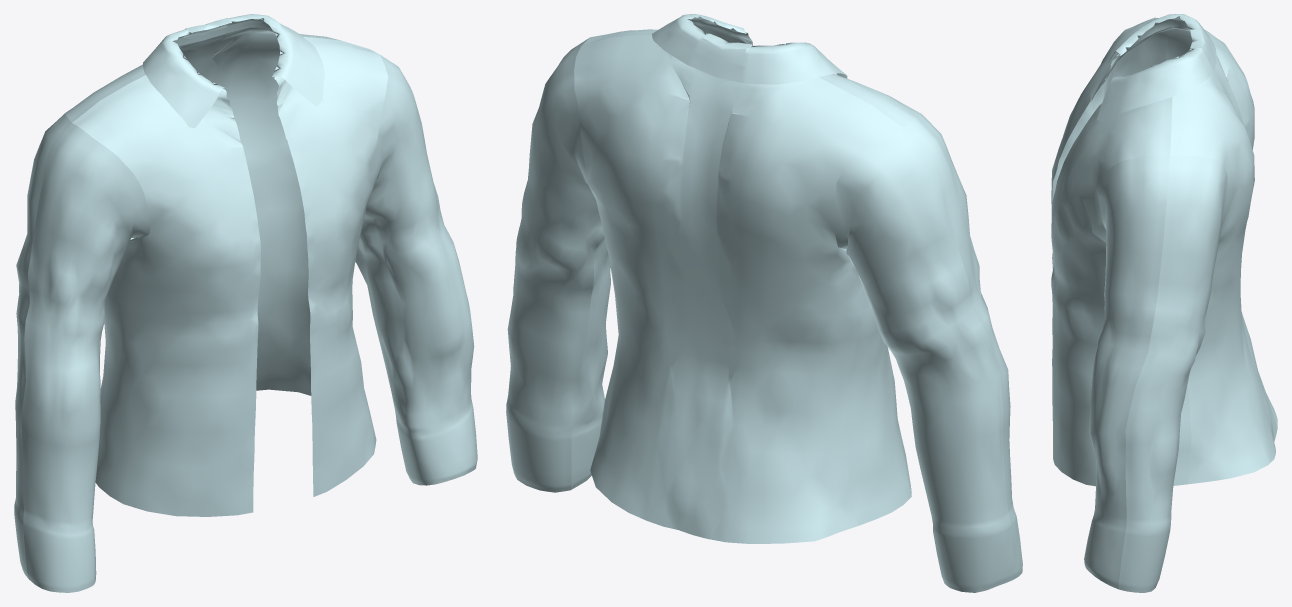
Rendered from clothing_overshirt.glb.
The picture shows the model from 3 angles, left to right: view 1: azimuth 30°, elevation 25°; view 2: azimuth 150°, elevation 25°; view 3: azimuth 270°, elevation 25°; orthographic projection. The views are drawn at different scales.
Parts seen in each view (by area): view 1: Cloth_shirt; view 2: Cloth_shirt; view 3: Cloth_shirt.
Part boxes in pixels (x1,y1,x2,y2): Cloth_shirt: [14, 14, 477, 592]; Cloth_shirt: [506, 14, 1022, 592]; Cloth_shirt: [1051, 14, 1277, 592].
Size of the model in its own units: 0.6753 by 0.685 by 0.3063.
